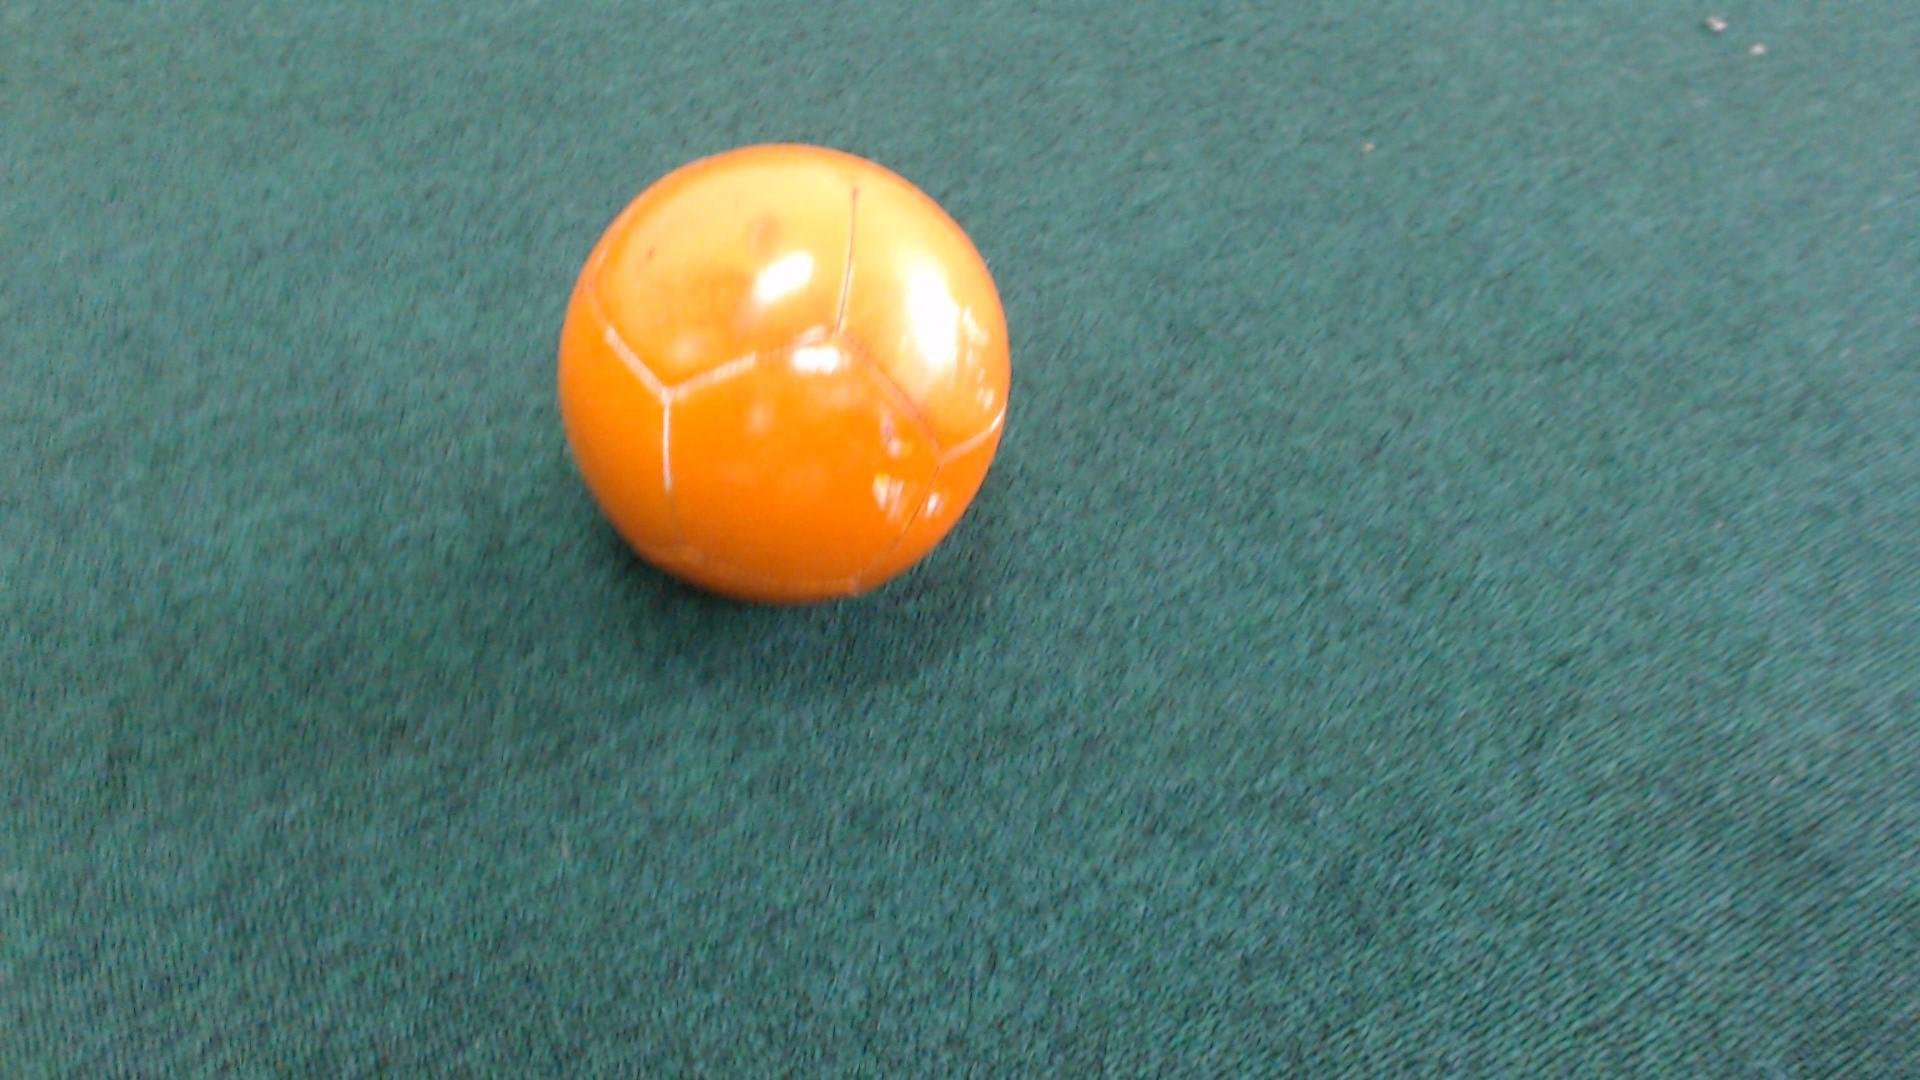bola: (521, 102, 1040, 637)
